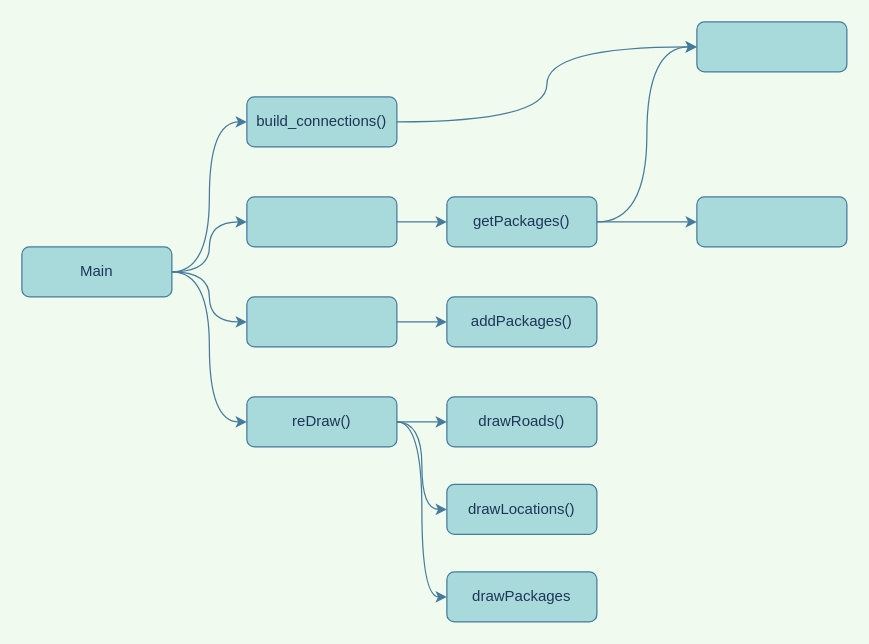
This 869x644 diagram has some shape labels left out. The shapes that lost their labels are listed below. From the top down, each one's centre as x and y in pixels, then its label:
At (x=771, y=46): "getLocations()".
At (x=321, y=221): "initPackages()".
At (x=771, y=221): "math.random()".
At (x=321, y=321): "robot.init()".
